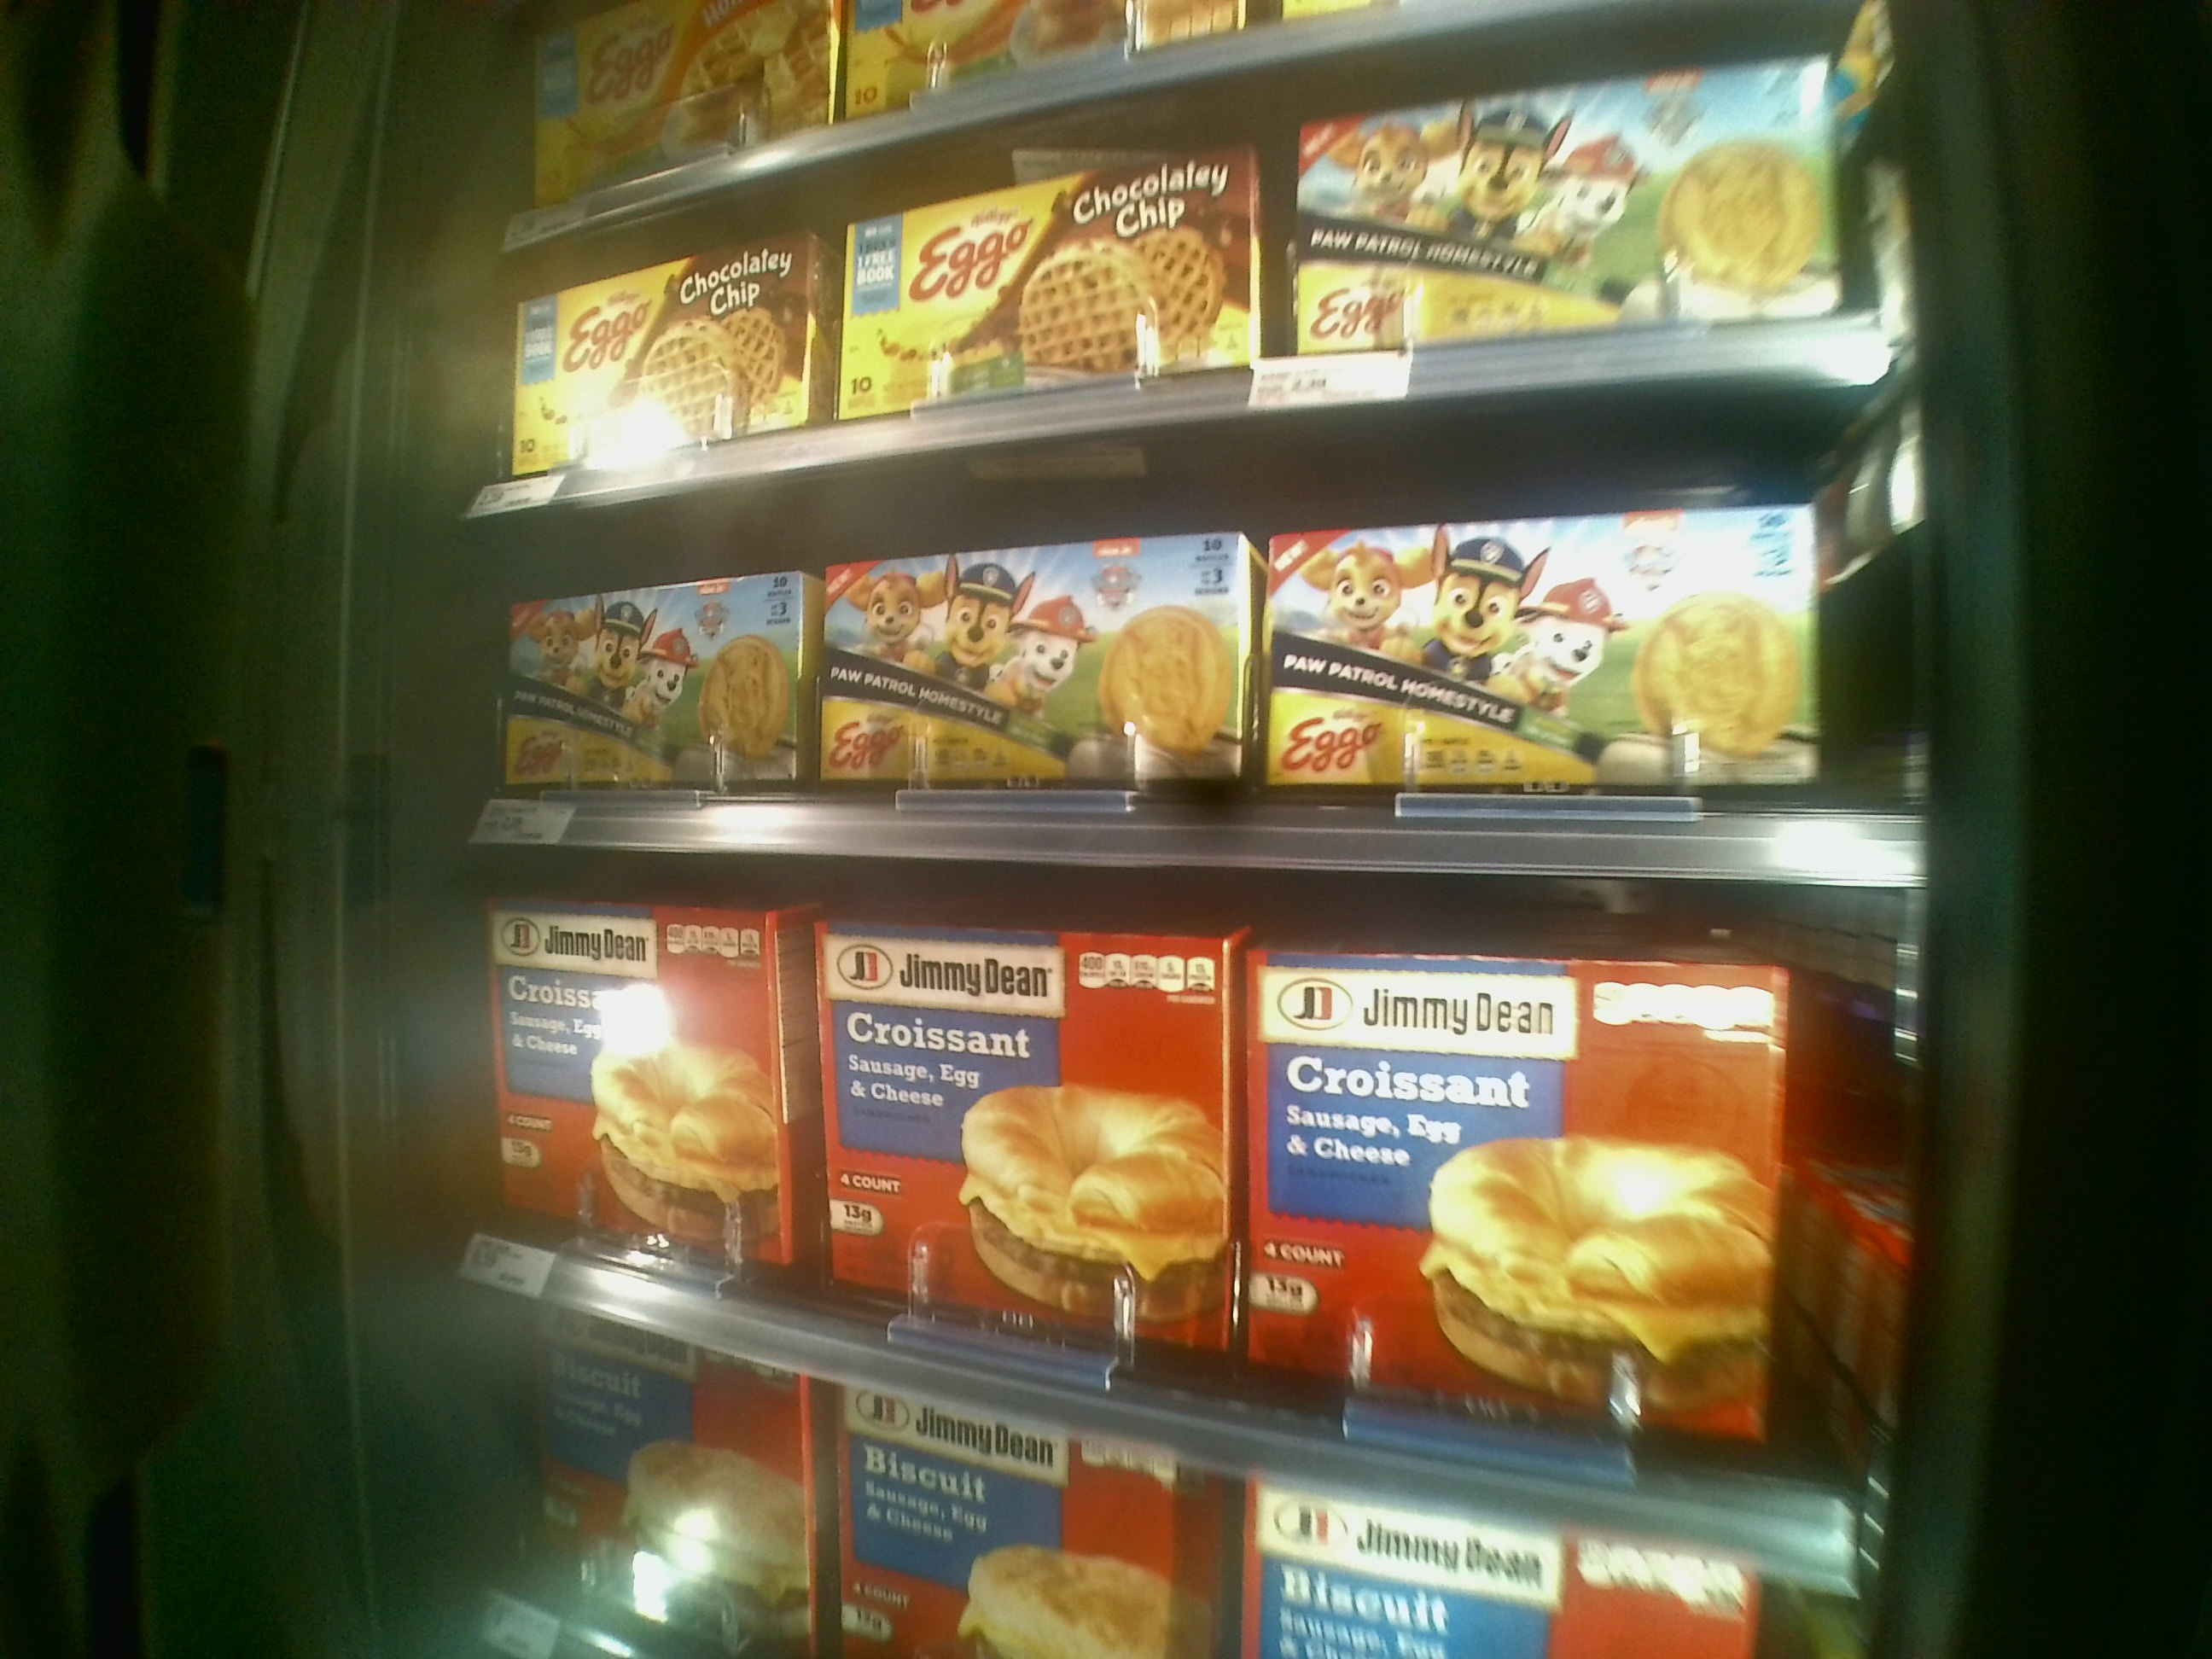shelf: (467, 842, 1911, 1582), (472, 362, 1912, 887)
